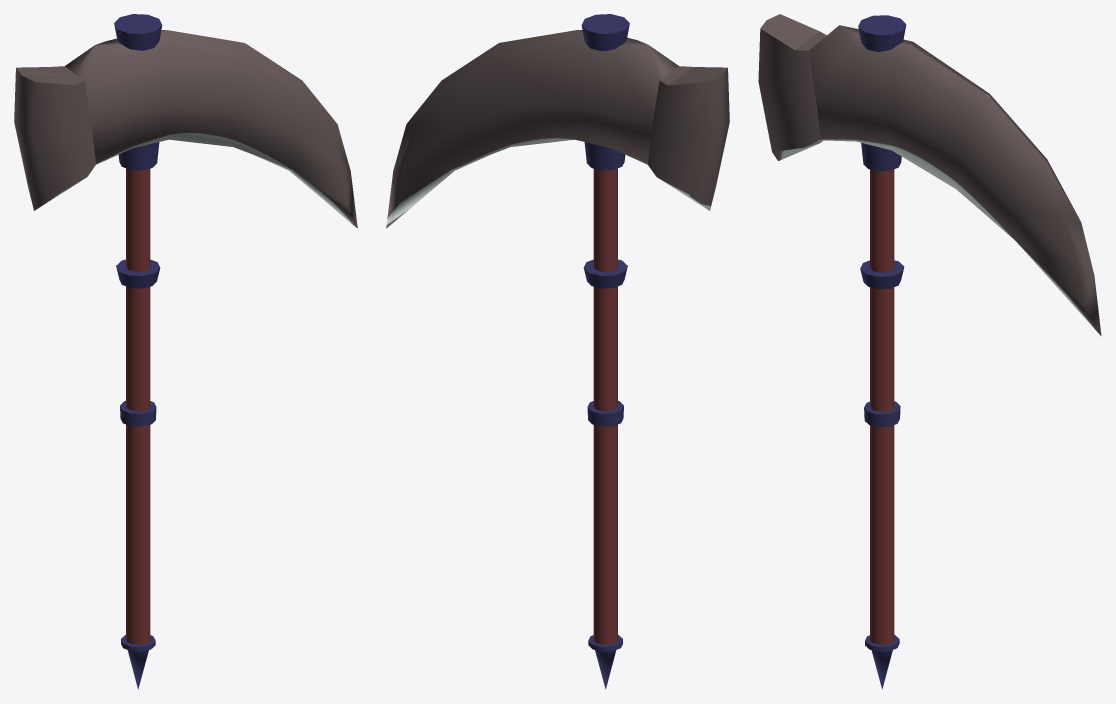
File: sd_character_reaper_weapon_01.FBX
3 views of the same model, side by side, from view 1: azimuth 30°, elevation 25°; view 2: azimuth 150°, elevation 25°; view 3: azimuth 330°, elevation 25° (orthographic).
Visible parts, largest first — view 1: sd_character_reaper_weapon; view 2: sd_character_reaper_weapon; view 3: sd_character_reaper_weapon.
Boxes of the visible parts, x1=… form: sd_character_reaper_weapon: x1=14, y1=14, x2=357, y2=689; sd_character_reaper_weapon: x1=386, y1=14, x2=729, y2=689; sd_character_reaper_weapon: x1=758, y1=14, x2=1101, y2=689.
Bounding box in the file's own units: 39.57 × 74.62 × 5.18.
1 material, 1 textured.
